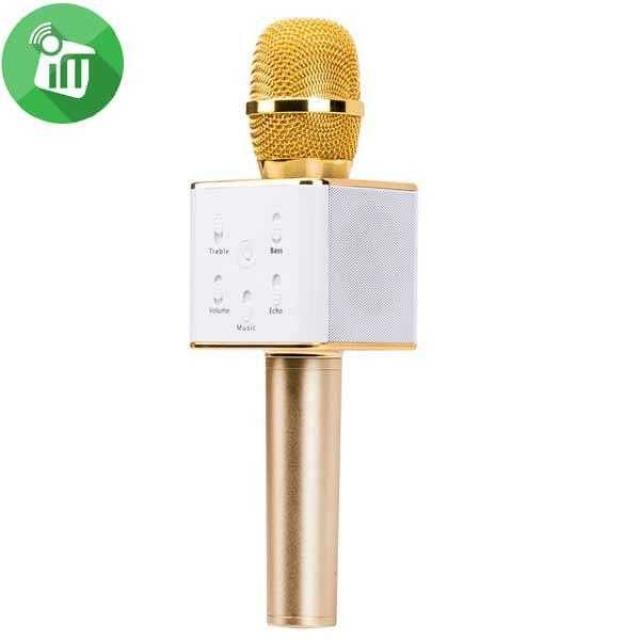microphone: (200, 7, 405, 599)
